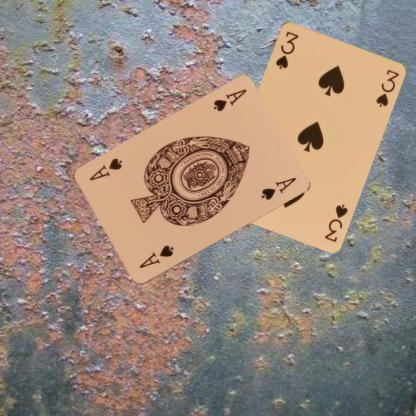3s: (321, 201, 349, 243), (273, 28, 300, 70)
As: (136, 243, 175, 270), (210, 87, 248, 113)
